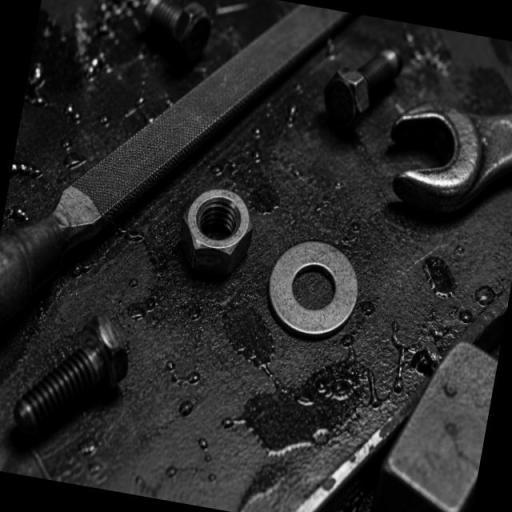Bolt: (9, 313, 132, 448), (323, 47, 404, 132), (142, 0, 214, 67)
Nut: (179, 187, 253, 280)
Washer: (268, 241, 359, 337)
